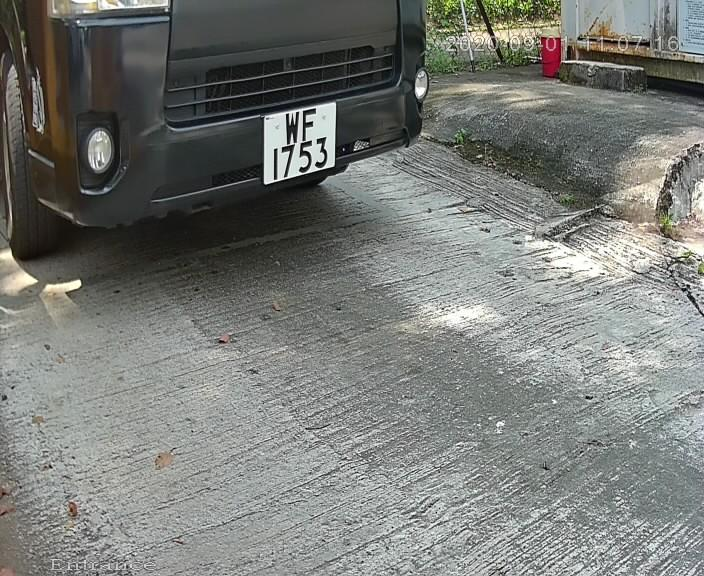Car: (23, 1, 466, 289)
License Plate: (252, 96, 340, 196)
